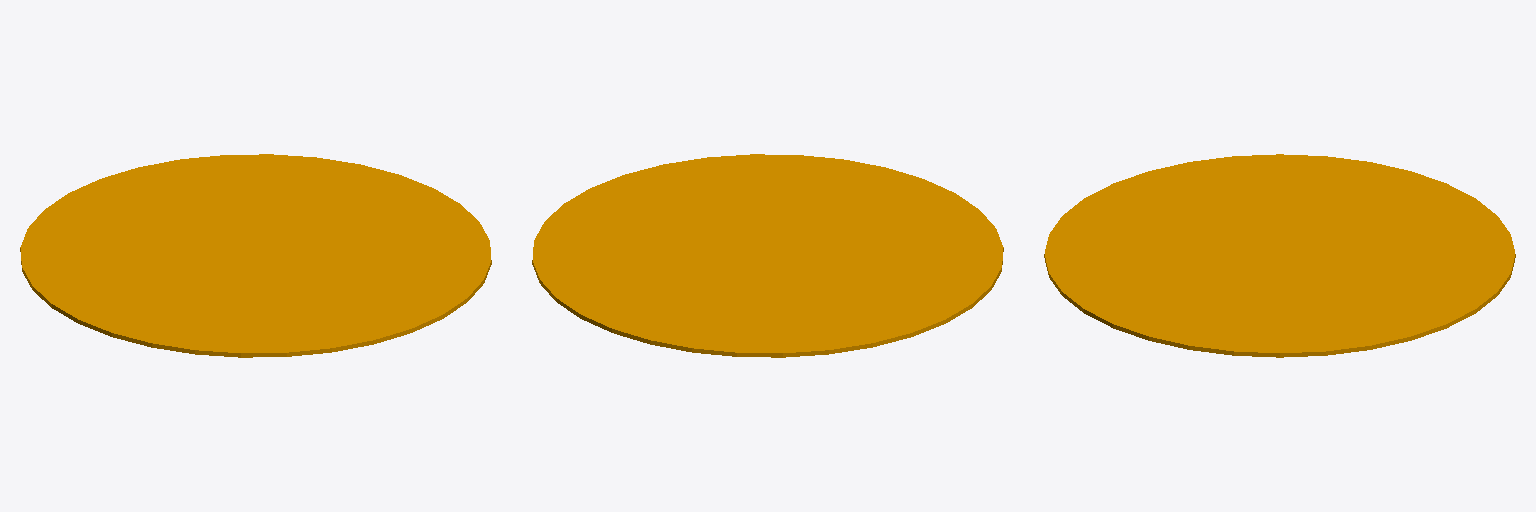
robot.urdf — my_robot:
<?xml version="1.0"?>
<robot name="my_robot">
  <link name="base_link">
    <inertial>
      <mass value="1.0"/>
      <origin rpy="0 0 0" xyz="0 0 0"/>
      <inertia ixx="0.1667" ixy="0" ixz="0" iyy="0.1667" iyz="0" izz="0.3333"/>
    </inertial>
    <visual>
      <origin rpy="0 0 0" xyz="0 0 0"/>
      <geometry>
        <cylinder radius="0.5" length="0.01"/>
      </geometry>
      <material name="dartboard">
        <texture filename="dartboard.png"/>
      </material>
    </visual>
    <collision>
      <origin rpy="0 0 0" xyz="0 0 0"/>
      <geometry>
        <cylinder radius="0.5" length="0.01"/>
      </geometry>
    </collision>
  </link>
</robot>

--- What the picture shows (computed from the rendered views, not written in the file) ---
Views: 3 orthographic renders of the robot side by side, from view 1: azimuth 30°, elevation 25°; view 2: azimuth 150°, elevation 25°; view 3: azimuth 270°, elevation 25°.
Model my_robot with 1 links and 0 joints (none), rooted at base_link, posed every joint at zero.
Links seen in each view (by area): view 1: base_link; view 2: base_link; view 3: base_link.
Link boxes in pixels (x1,y1,x2,y2): base_link: (20, 154, 491, 357); base_link: (532, 154, 1003, 357); base_link: (1044, 154, 1515, 357).
Bounding box of the posed robot: 1 × 1 × 0.01 m (x, y, z).
Geometry: primitives only (box / cylinder / sphere), no mesh files.
